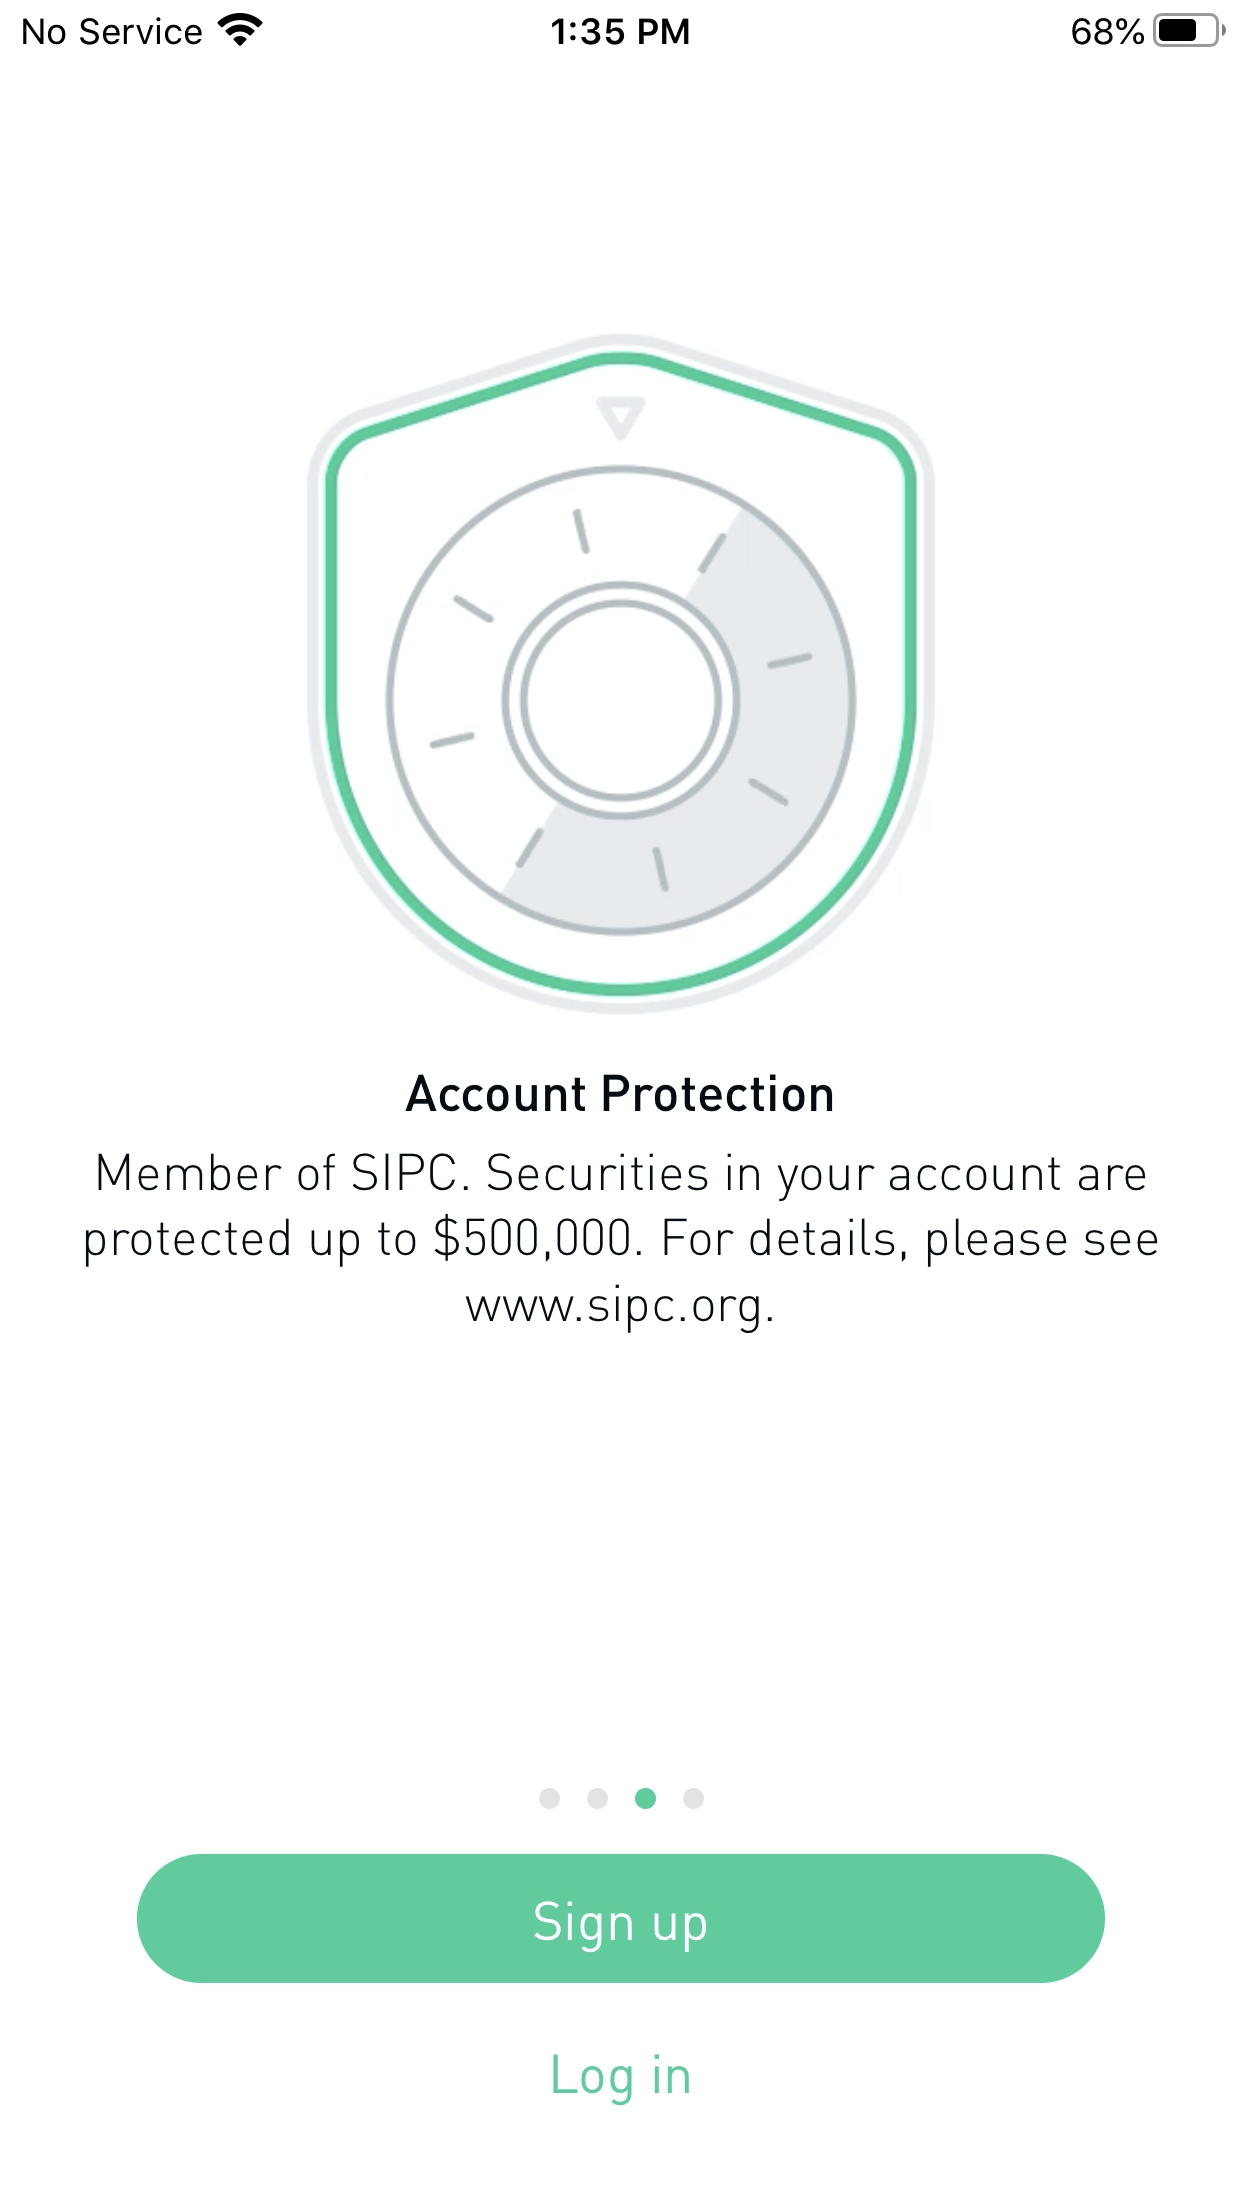Image: (308, 334, 934, 1015)
PageIndicator: (538, 1786, 704, 1809)
Text: (85, 1153, 1159, 1335), (405, 1074, 833, 1112), (554, 2053, 688, 2105)
TextButton: (136, 1853, 1106, 1984)
UpperTaskBar: (2, 2, 1242, 49)
